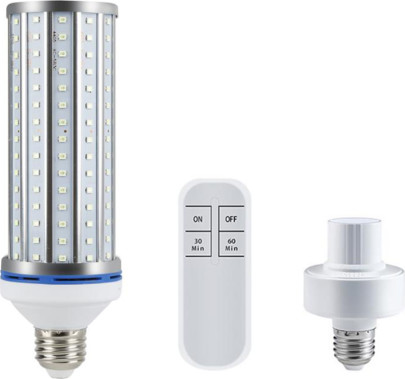bulb: (2, 2, 144, 321)
